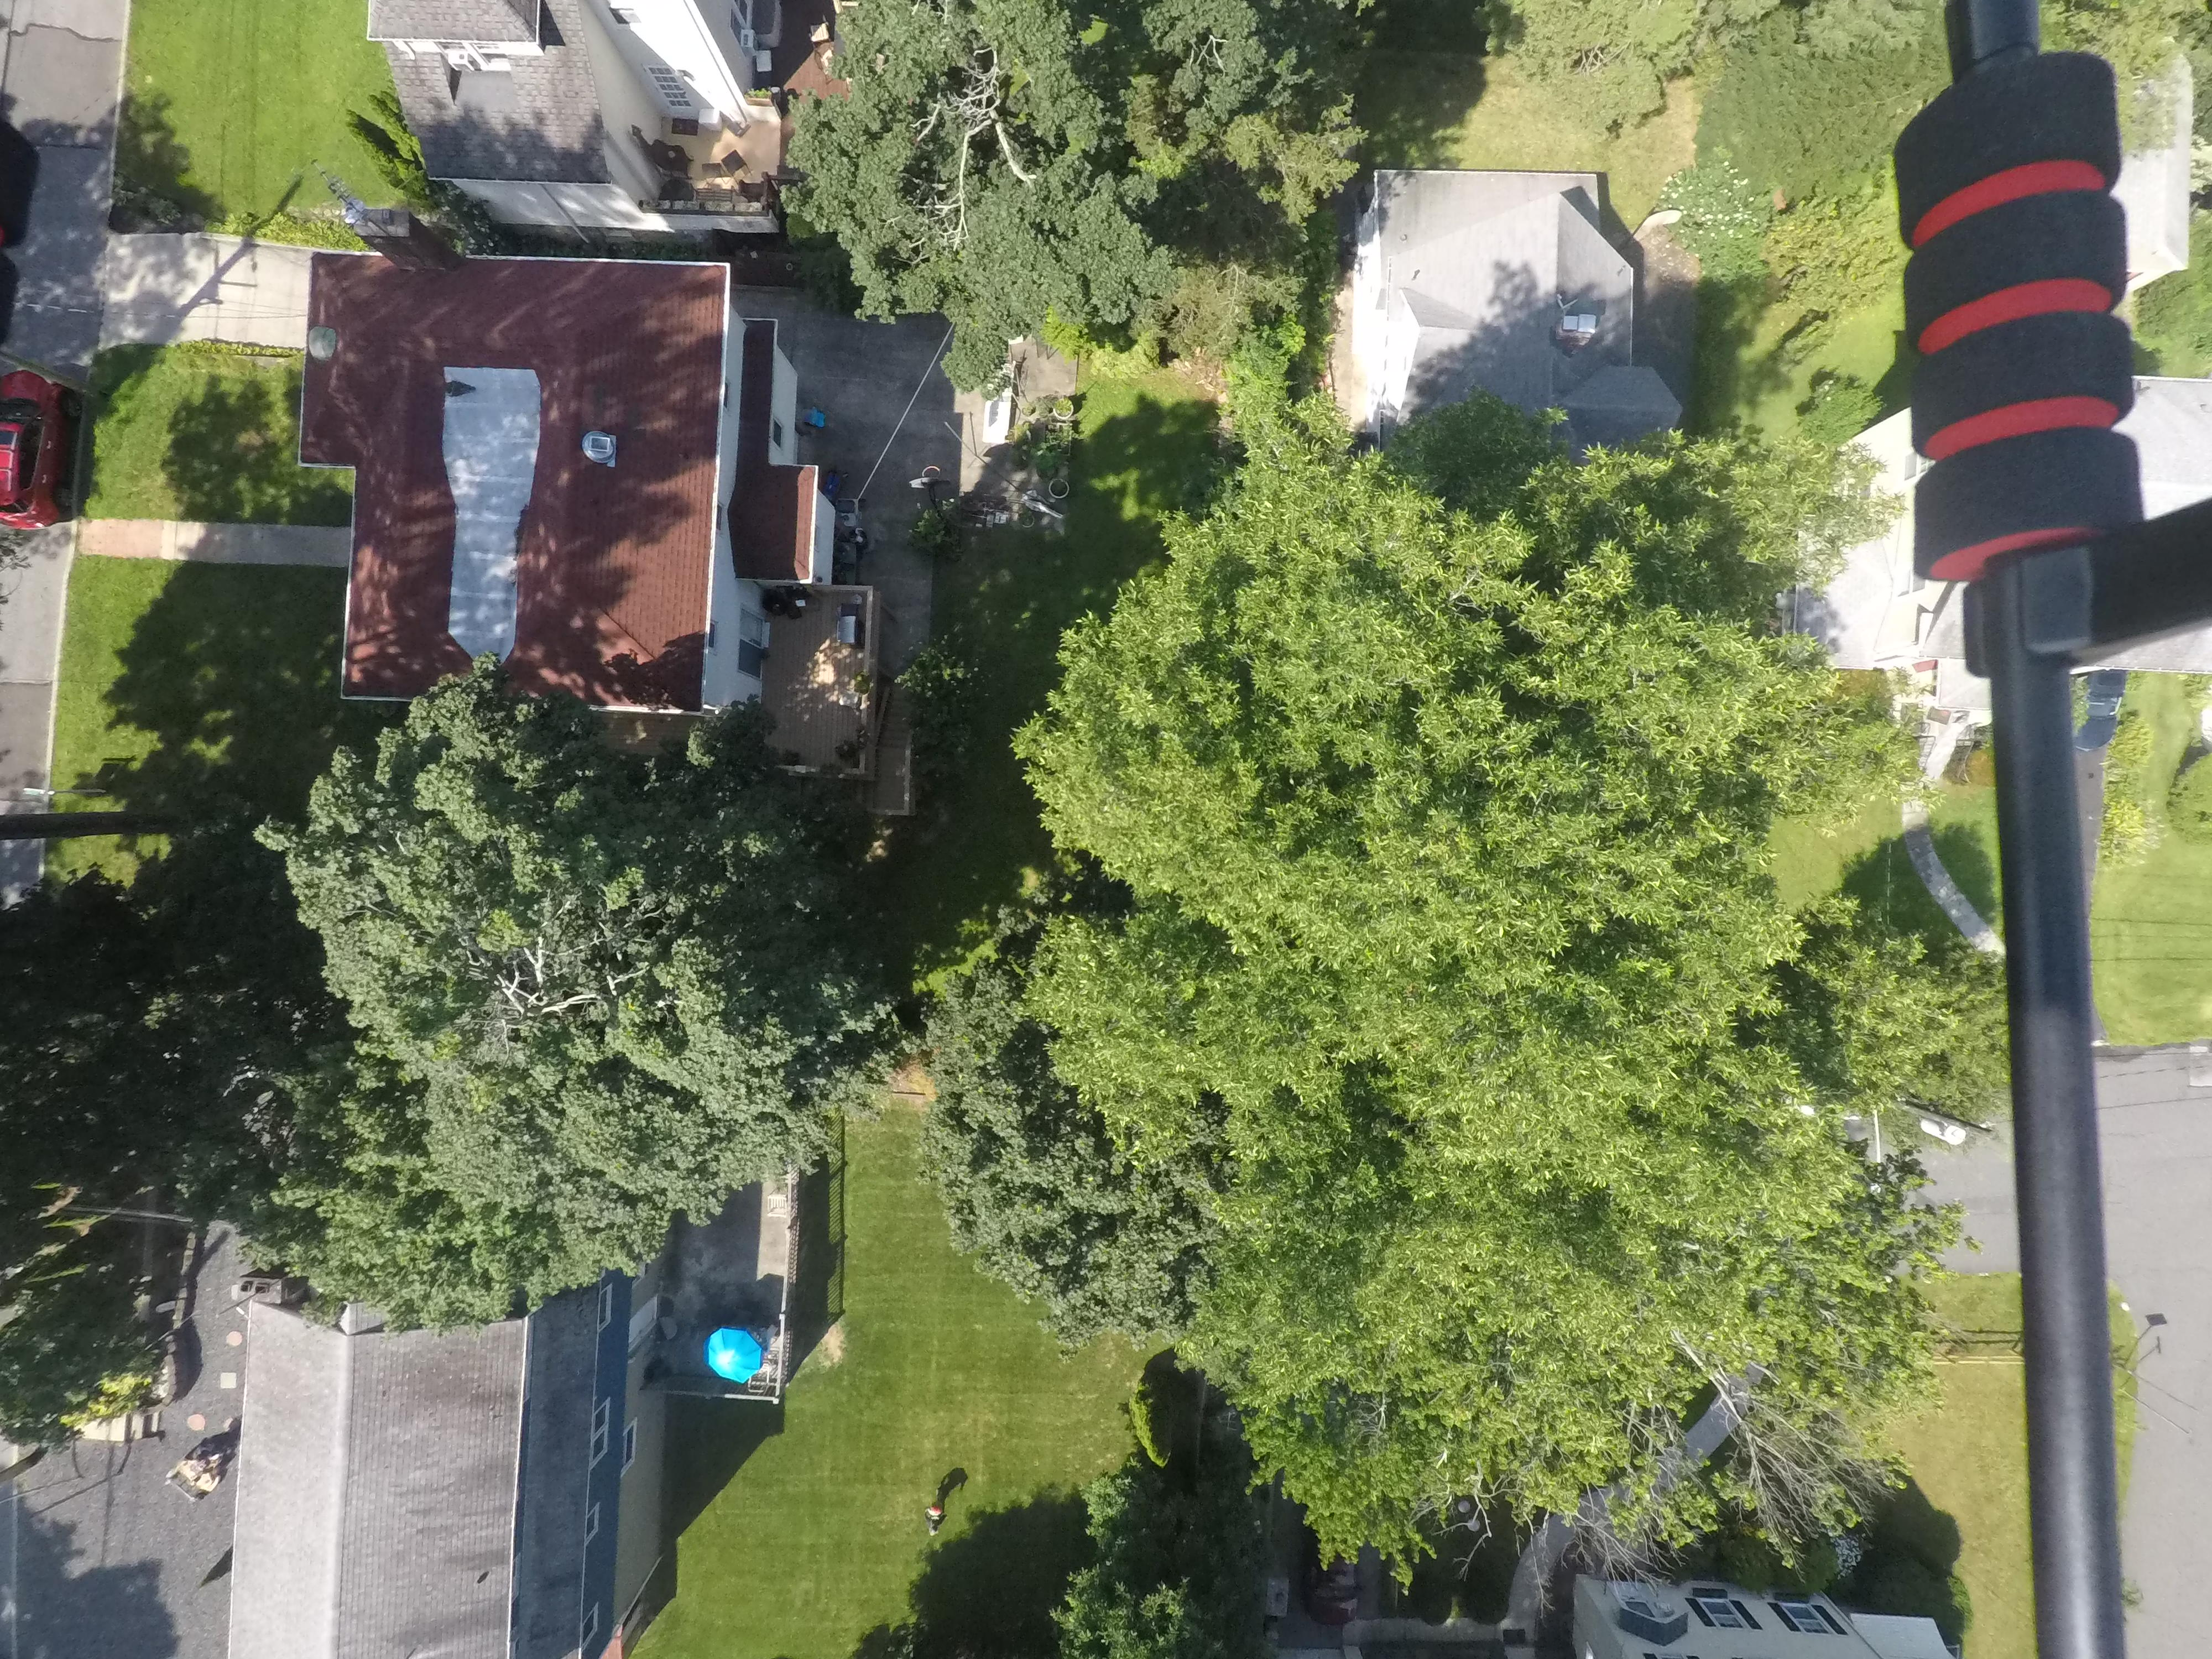basketball: (897, 465, 977, 563)
porch: (747, 558, 942, 826)
pot: (831, 737, 859, 765), (1047, 476, 1069, 504), (777, 749, 805, 769), (1015, 505, 1038, 526), (853, 727, 867, 742)
property - larvae: (78, 188, 1284, 884)
